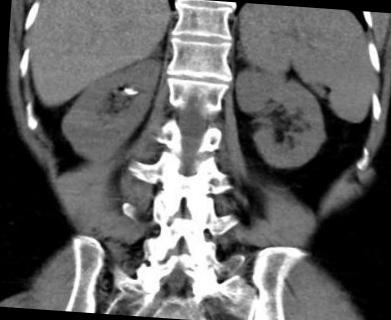Tas_Var: (120, 86, 138, 95)
